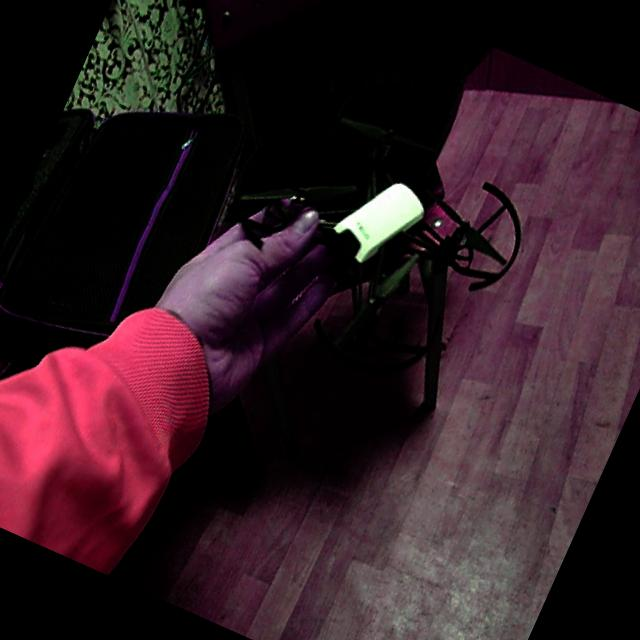drone: (178, 25, 574, 432)
